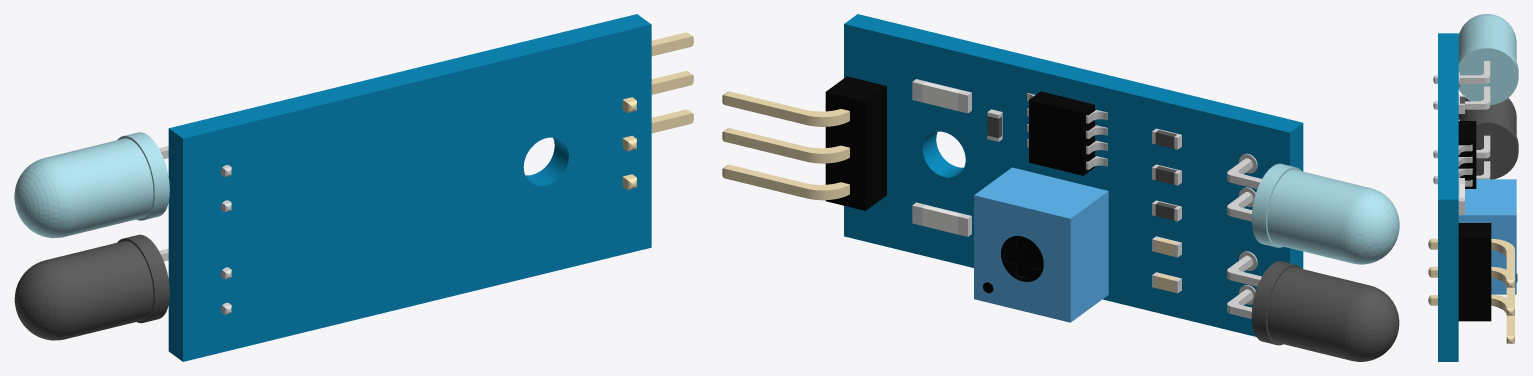
The model's file is IR Controller v2.glb.
3 views of the same model, side by side, from view 1: azimuth 30°, elevation 25°; view 2: azimuth 150°, elevation 25°; view 3: azimuth 270°, elevation 25° (orthographic). The views are drawn at different scales.
Parts seen in each view (by area): view 1: Node4, Node9, Node7, Node6, Node2; view 2: Node4, Node5, Node1, Node7, Node9, Node6, Node2, Node8, Node3; view 3: Node4, Node9, Node1, Node5, Node7, Node6, Node2, Node3.
Part boxes in pixels (<box>): Node4: <box>168,14,651,361</box>; Node9: <box>14,132,169,238</box>; Node7: <box>14,234,169,340</box>; Node6: <box>622,32,693,189</box>; Node2: <box>159,146,231,314</box>; Node4: <box>844,14,1303,336</box>; Node5: <box>974,167,1108,322</box>; Node1: <box>825,76,1094,293</box>; Node7: <box>987,116,1399,361</box>; Node9: <box>1251,163,1399,264</box>; Node6: <box>722,91,1176,292</box>; Node2: <box>912,79,1261,318</box>; Node8: <box>922,82,960,234</box>; Node3: <box>1027,93,1257,304</box>; Node4: <box>1438,33,1458,361</box>; Node9: <box>1458,14,1518,105</box>; Node1: <box>1458,121,1517,321</box>; Node5: <box>1458,179,1516,294</box>; Node7: <box>1458,96,1518,179</box>; Node6: <box>1428,238,1514,343</box>; Node2: <box>1433,61,1490,214</box>; Node3: <box>1458,71,1472,186</box>.
Bounding box in the file's own units: 45.83 × 14.2 × 7.15.
